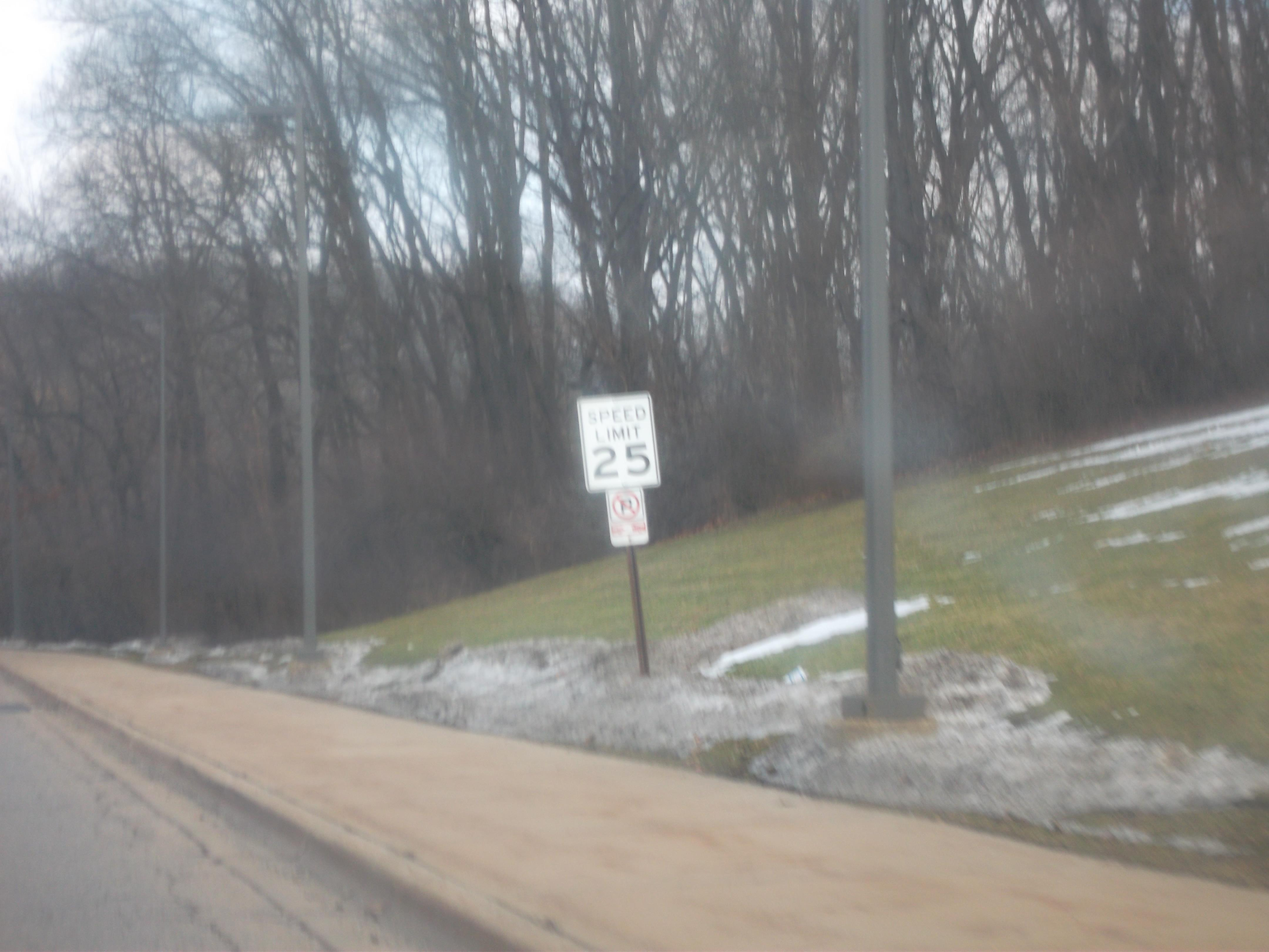Speed Limit 25mph: (577, 395, 650, 493)
